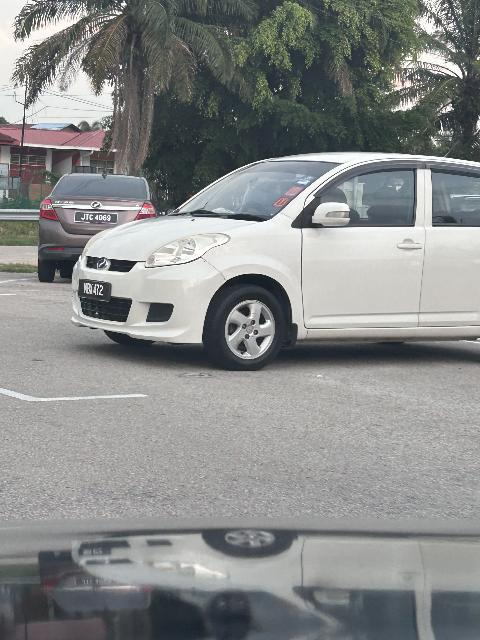JTC4069: (73, 212, 122, 231)
License_Plate: (76, 277, 116, 303), (73, 212, 122, 231)
car: (66, 150, 480, 369), (37, 171, 159, 288)
